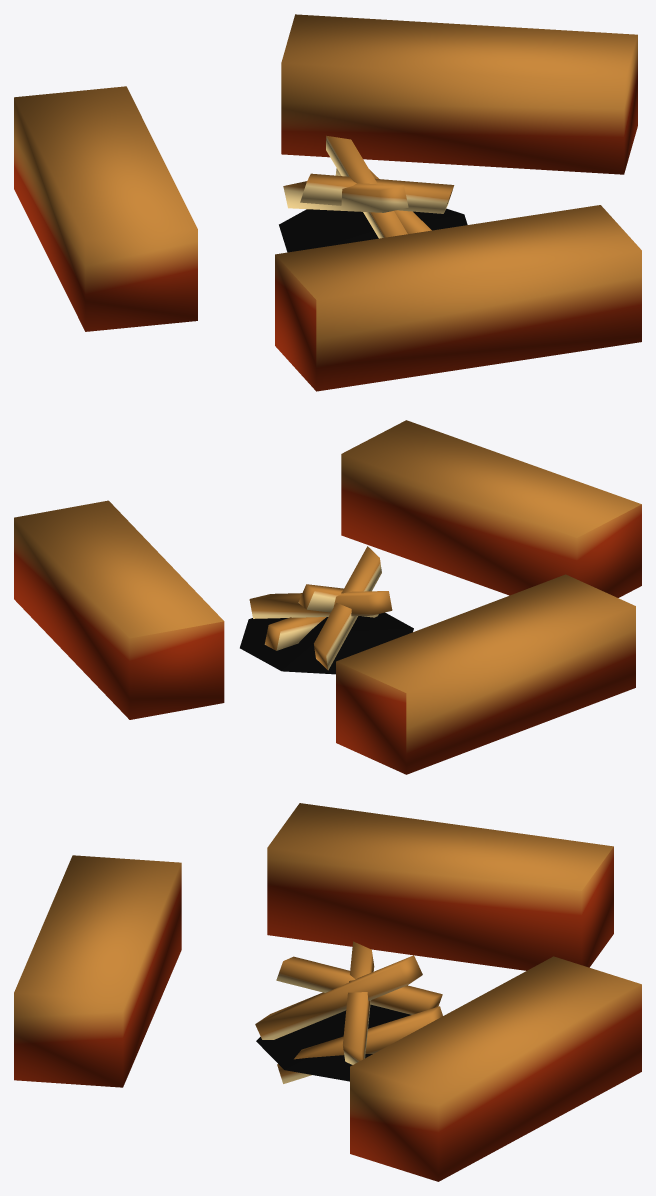
File: MakeG1-G2.fbx
3 renders of one model, top to bottom at view 1: azimuth 30°, elevation 25°; view 2: azimuth 150°, elevation 25°; view 3: azimuth 270°, elevation 25°, orthographic. The views are drawn at different scales.
Visible parts, largest first — view 1: Cube; view 2: Cube; view 3: Cube.
Part boxes in pixels (box(x1,y1,x2,y2)): Cube: box(14, 14, 641, 391); Cube: box(14, 420, 641, 774); Cube: box(14, 803, 641, 1181).
Size of the model in its own units: 417 by 74.55 by 380.
